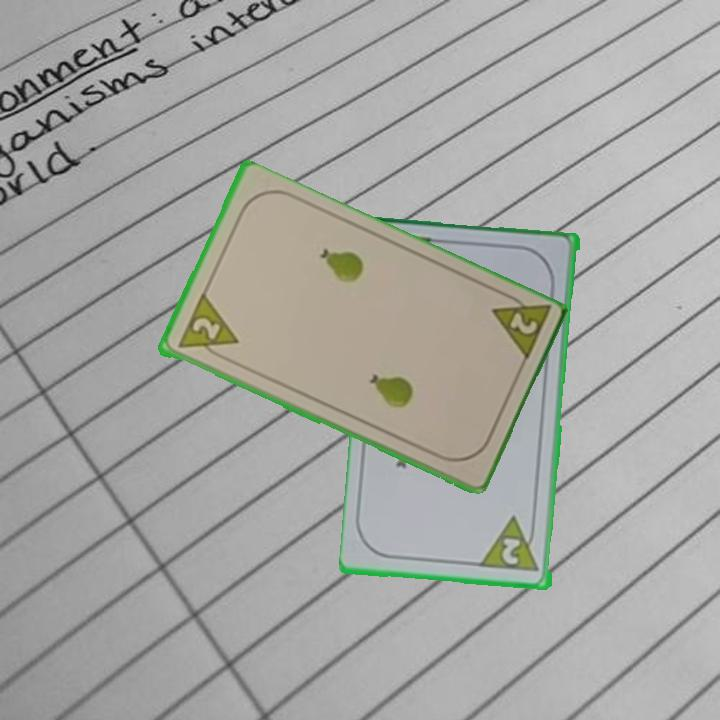2p: (487, 287, 553, 366), (173, 292, 241, 366), (498, 534, 524, 568)
